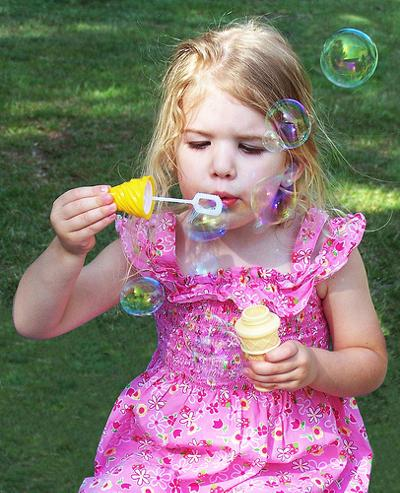person: (13, 26, 389, 491)
